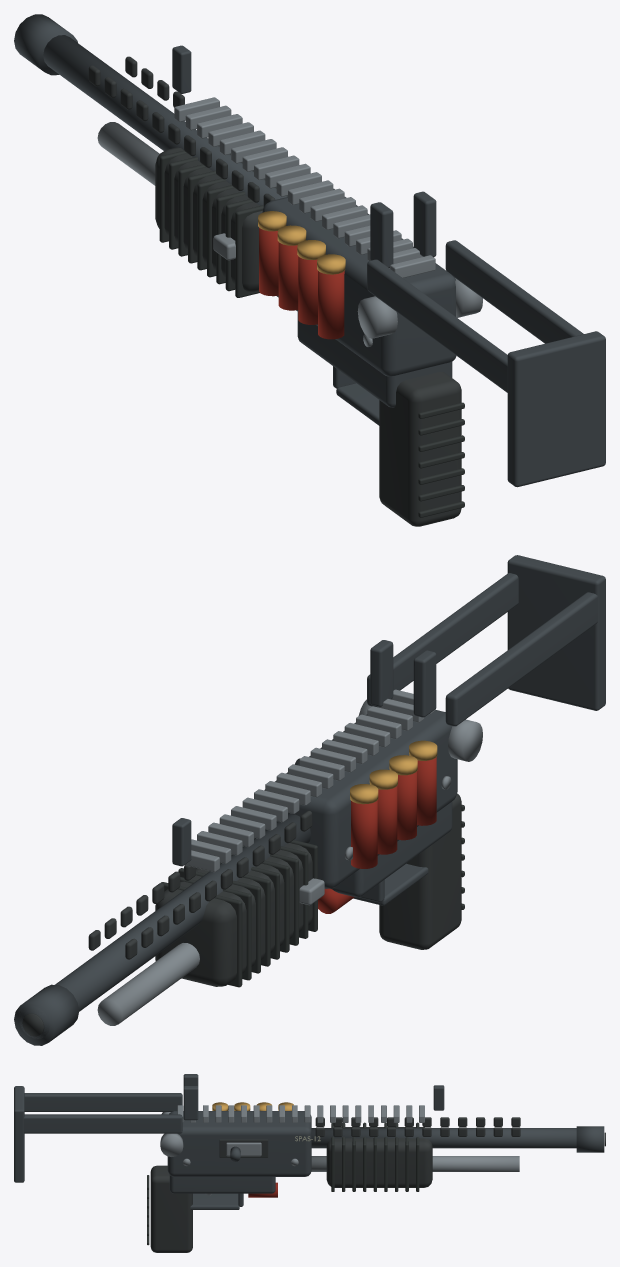
File: shotgun.glb
The picture shows the model from 3 angles, top to bottom: view 1: azimuth 30°, elevation 25°; view 2: azimuth 150°, elevation 25°; view 3: azimuth 270°, elevation 25°; orthographic projection. The views are drawn at different scales.
Parts seen in each view (by area): view 1: Static, Stock; view 2: Static, Stock; view 3: Static, Stock, Action.
Boxes of the visible parts, box(x1,y1,x2,y2) form: Static: box(14, 14, 482, 526); Stock: box(367, 240, 605, 487); Static: box(14, 640, 482, 1045); Stock: box(367, 555, 605, 726); Static: box(147, 1074, 605, 1252); Stock: box(14, 1086, 182, 1182); Action: box(226, 1142, 261, 1161).
Bounding box in the file's own units: 0.1436 × 0.3298 × 1.06.
